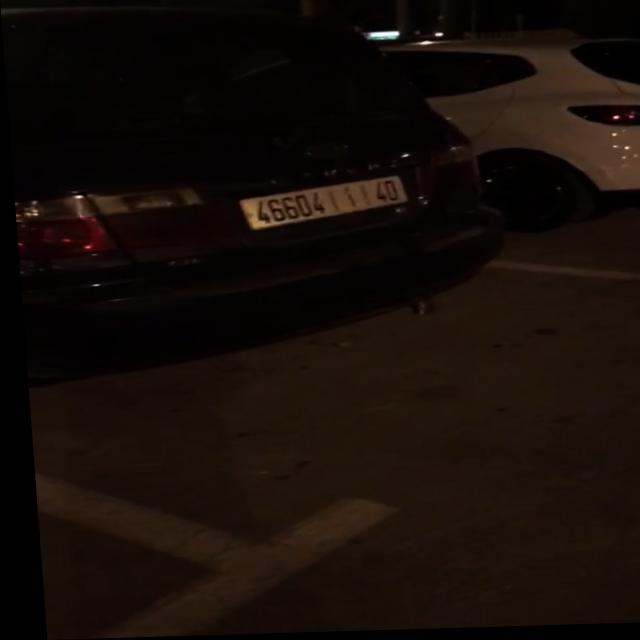License-Plate: (238, 179, 405, 231)
